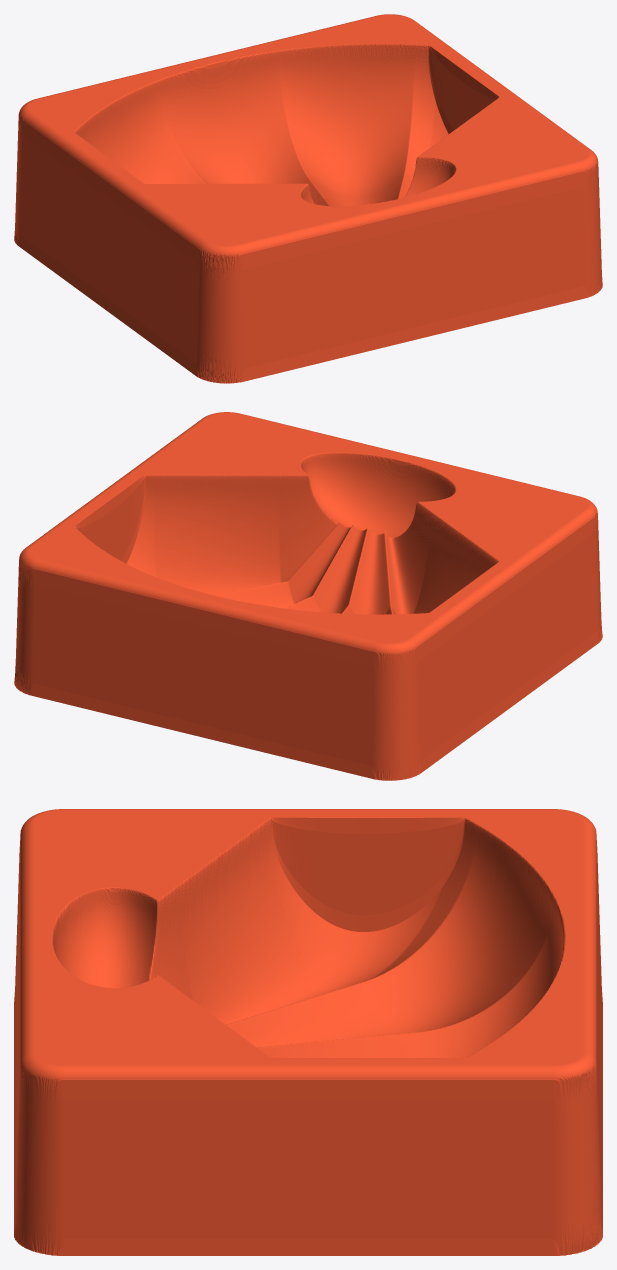
Rendered from mold.glb.
3 renders of one model, top to bottom at view 1: azimuth 30°, elevation 25°; view 2: azimuth 150°, elevation 25°; view 3: azimuth 270°, elevation 25°, orthographic. The views are drawn at different scales.
Visible parts, largest first — view 1: geometry_0; view 2: geometry_0; view 3: geometry_0.
Part boxes in pixels (left/top/right/bottom): geometry_0: left=14, top=14, right=602, bottom=383; geometry_0: left=14, top=412, right=602, bottom=780; geometry_0: left=14, top=809, right=602, bottom=1255.
Bounding box in the file's own units: 0.1166 × 0.0365 × 0.1068.
